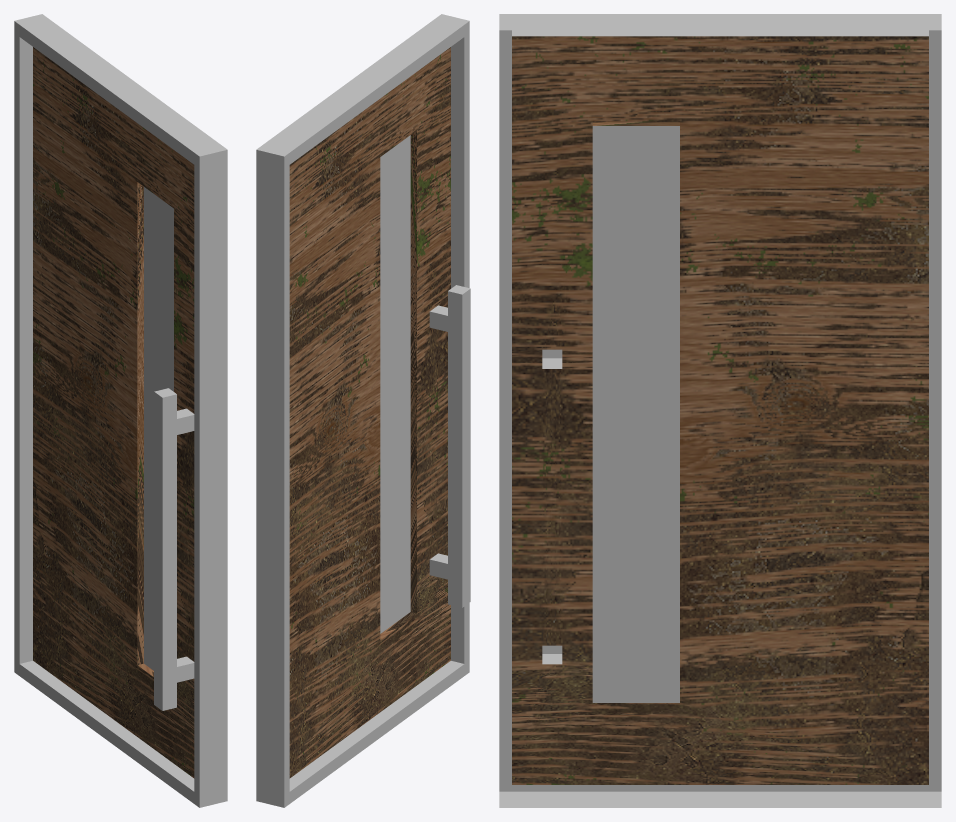
Rendered from m_door.fbx.
3 renders of one model, left to right at view 1: azimuth 30°, elevation 25°; view 2: azimuth 150°, elevation 25°; view 3: azimuth 270°, elevation 25°, orthographic. The views are drawn at different scales.
Visible parts, largest first — view 1: pCube343; view 2: pCube343; view 3: pCube343.
Boxes of the visible parts, x1,y1,x2,y2 form: pCube343: (14, 14, 227, 807); pCube343: (256, 14, 470, 807); pCube343: (499, 14, 941, 807).
Size of the model in its own units: 51.26 by 677 by 349.
